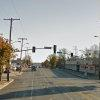Traffic light: (28, 39, 73, 65)
